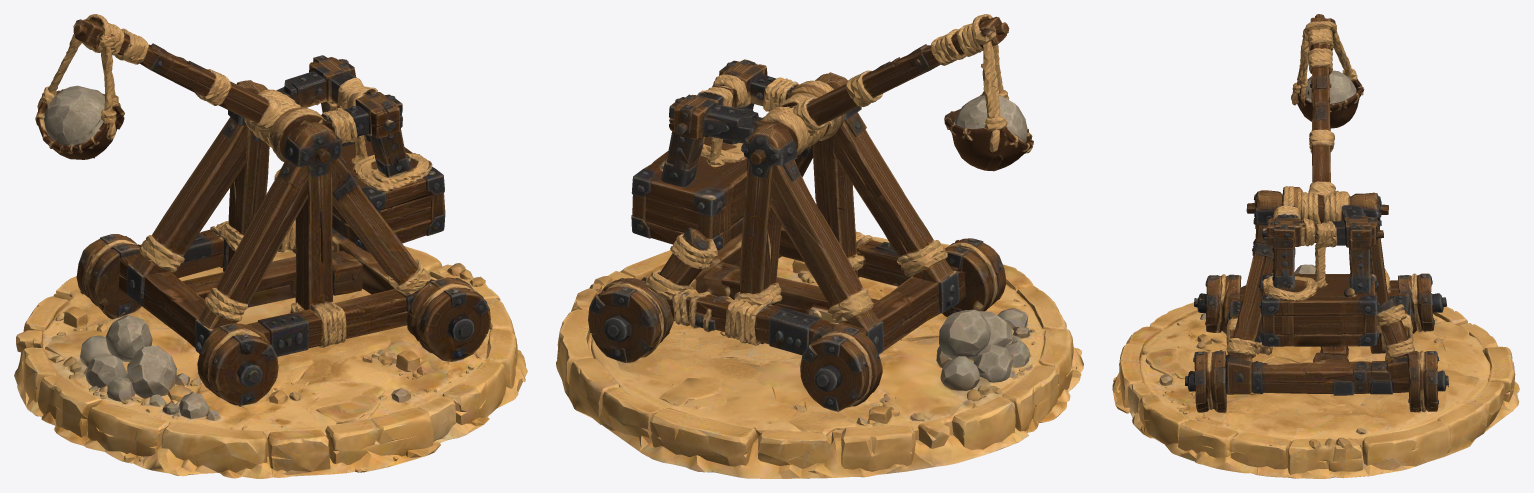
The model's file is catapult.glb.
3 views of the same model, side by side, from view 1: azimuth 30°, elevation 25°; view 2: azimuth 150°, elevation 25°; view 3: azimuth 270°, elevation 25° (orthographic). The views are drawn at different scales.
Parts seen in each view (by area): view 1: catapult; view 2: catapult; view 3: catapult.
Part boxes in pixels (<box>): catapult: <box>14,14,527,478</box>; catapult: <box>556,14,1083,478</box>; catapult: <box>1112,14,1519,478</box>.
Size of the model in its own units: 1.89 by 1.59 by 1.9.
Materials: 1 (1 with a texture image).
